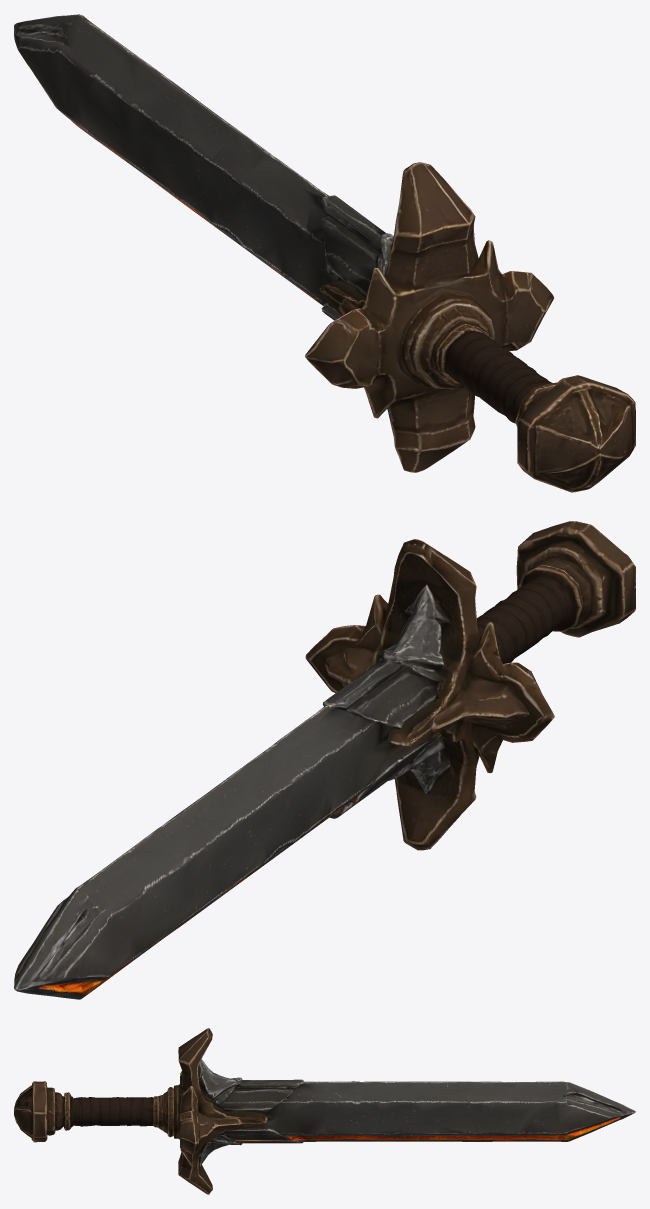
File: velkorran.glb
The picture shows the model from 3 angles, top to bottom: view 1: azimuth 30°, elevation 25°; view 2: azimuth 150°, elevation 25°; view 3: azimuth 270°, elevation 25°; orthographic projection. The views are drawn at different scales.
Visible parts, largest first — view 1: tripo_node_3560acf8-cb39-4f96-bed9-53f3d3685f1f; view 2: tripo_node_3560acf8-cb39-4f96-bed9-53f3d3685f1f; view 3: tripo_node_3560acf8-cb39-4f96-bed9-53f3d3685f1f.
Part boxes in pixels (left/top/right/bottom): tripo_node_3560acf8-cb39-4f96-bed9-53f3d3685f1f: left=14, top=14, right=635, bottom=492; tripo_node_3560acf8-cb39-4f96-bed9-53f3d3685f1f: left=14, top=521, right=635, bottom=999; tripo_node_3560acf8-cb39-4f96-bed9-53f3d3685f1f: left=14, top=1028, right=635, bottom=1194.
Size of the model in its own units: 0.246 by 0.2922 by 0.9997.
1 material, 1 textured.
